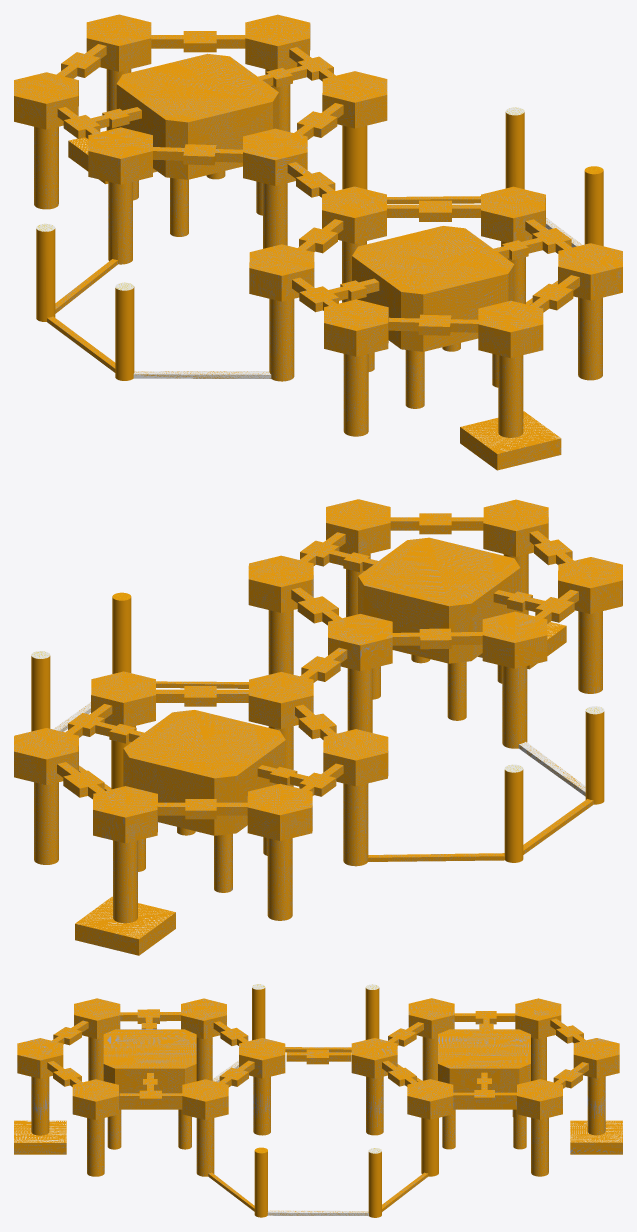
Rendered from modelXX.dae.
The picture shows the model from 3 angles, top to bottom: view 1: azimuth 30°, elevation 25°; view 2: azimuth 150°, elevation 25°; view 3: azimuth 270°, elevation 25°; orthographic projection. The views are drawn at different scales.
Parts seen in each view (by area): view 1: SketchUp (×45); view 2: SketchUp (×44); view 3: SketchUp (×52).
Boxes of the visible parts, left/top/right/bottom form: SketchUp (×45): left=14, top=14, right=622, bottom=470; SketchUp (×44): left=14, top=499, right=622, bottom=955; SketchUp (×52): left=14, top=988, right=622, bottom=1217.
Size of the model in its own units: 8230184 by 1.25e+07 by 2134677.
